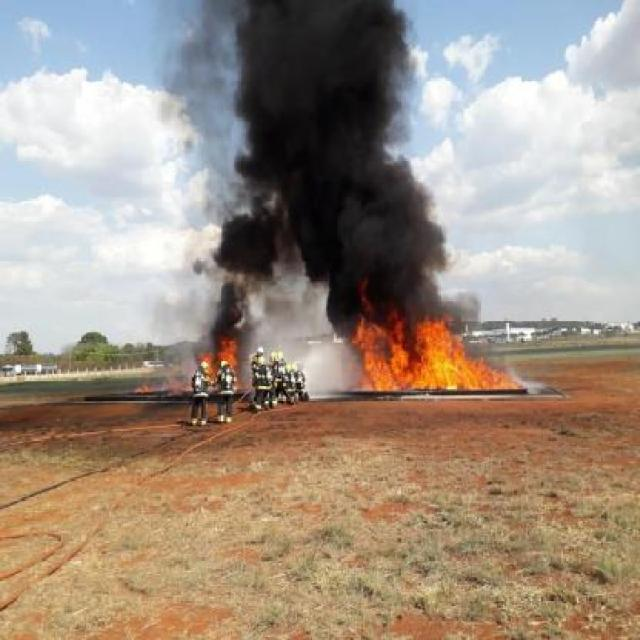Fire: (357, 318, 533, 394), (214, 338, 240, 364), (202, 353, 216, 376)
Smoke: (209, 0, 446, 344)
